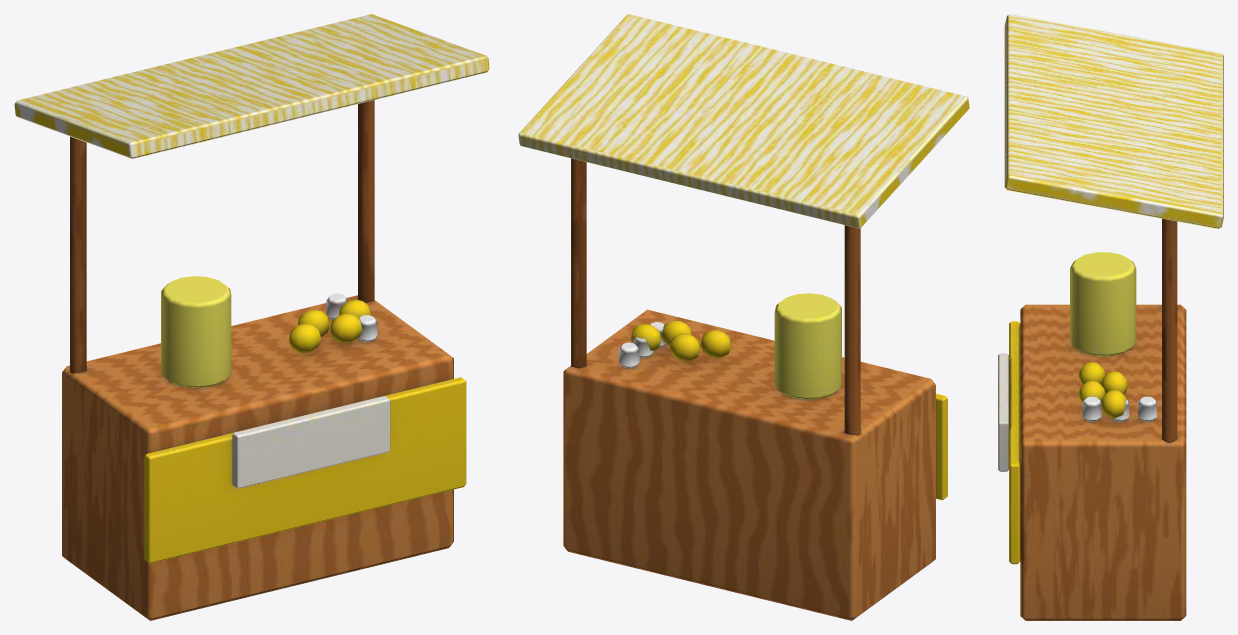
File: lemonade_stand.glb
3 renders of one model, left to right at view 1: azimuth 30°, elevation 25°; view 2: azimuth 150°, elevation 25°; view 3: azimuth 270°, elevation 25°, orthographic. The views are drawn at different scales.
Visible parts, largest first — view 1: lemonade_stand; view 2: lemonade_stand; view 3: lemonade_stand.
Boxes of the visible parts, x1=… form: lemonade_stand: x1=14, y1=14, x2=489, y2=620; lemonade_stand: x1=518, y1=14, x2=969, y2=620; lemonade_stand: x1=998, y1=14, x2=1223, y2=620.
Size of the model in its own units: 0.7 by 0.9134 by 0.408.
Materials: 1 (1 with a texture image).
